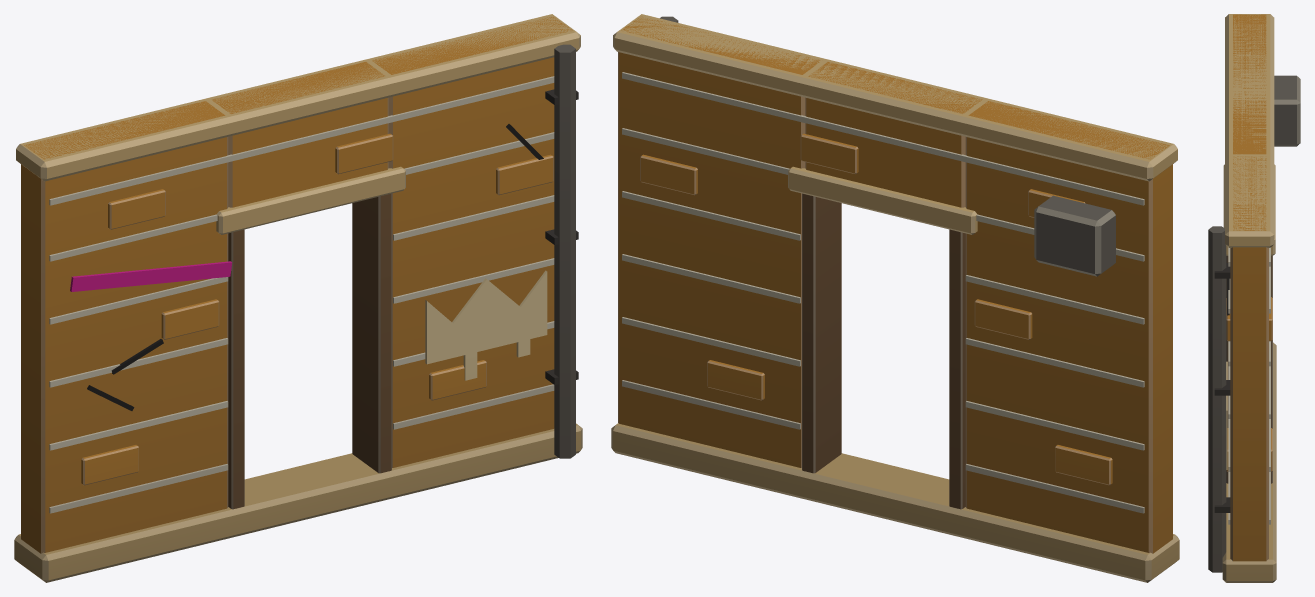
Rendered from b_wall_door.glb.
3 views of the same model, side by side, from view 1: azimuth 30°, elevation 25°; view 2: azimuth 150°, elevation 25°; view 3: azimuth 270°, elevation 25° (orthographic). The views are drawn at different scales.
Visible parts, largest first — view 1: b_wall_door; view 2: b_wall_door; view 3: b_wall_door.
Part boxes in pixels (x1,y1,x2,y2): b_wall_door: (14,14,582,582); b_wall_door: (611,14,1179,582); b_wall_door: (1208,14,1300,582).
Bounding box in the file's own units: 4.04 × 3 × 0.715.
